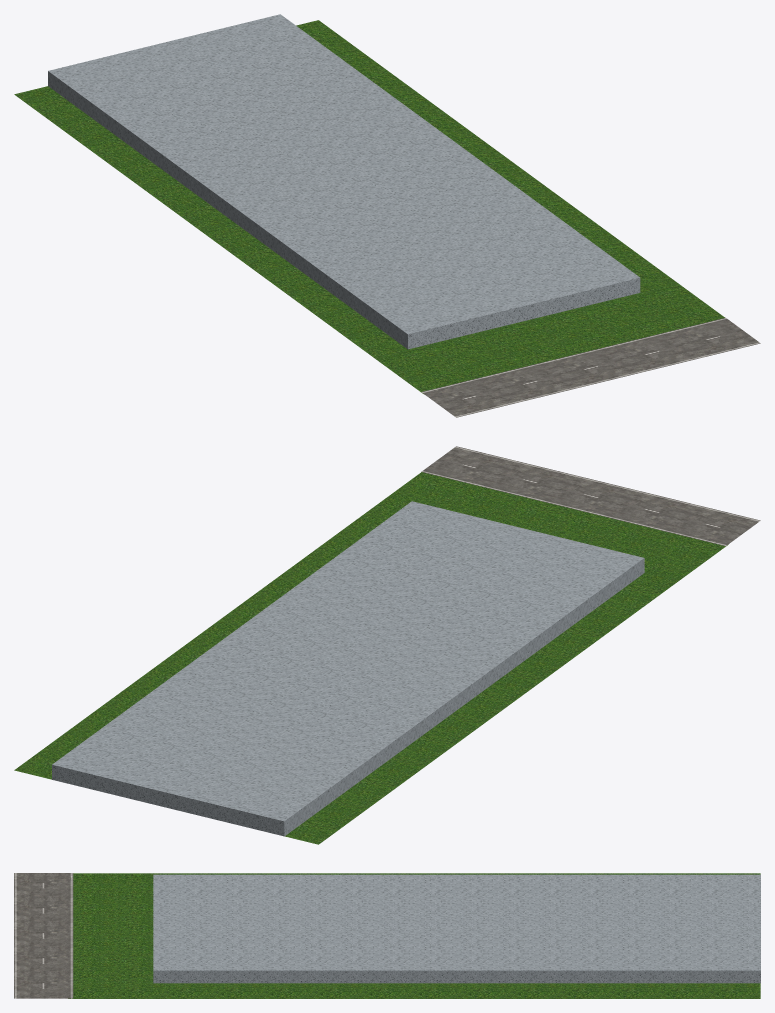
File: Floor.glb
The picture shows the model from 3 angles, top to bottom: view 1: azimuth 30°, elevation 25°; view 2: azimuth 150°, elevation 25°; view 3: azimuth 270°, elevation 25°; orthographic projection. The views are drawn at different scales.
Parts seen in each view (by area): view 1: Floor, Grass, Road; view 2: Floor, Grass, Road; view 3: Floor, Grass, Road.
Part boxes in pixels (x1,y1,x2,y2): Floor: [48, 14, 640, 349]; Grass: [14, 20, 724, 394]; Road: [421, 317, 760, 417]; Floor: [52, 501, 644, 836]; Grass: [14, 472, 728, 844]; Road: [421, 446, 760, 546]; Floor: [153, 874, 760, 983]; Grass: [68, 873, 760, 998]; Road: [14, 873, 73, 998].
Bounding box in the file's own units: 300 × 14.18 × 755.
Materials: 3 (3 with a texture image).
